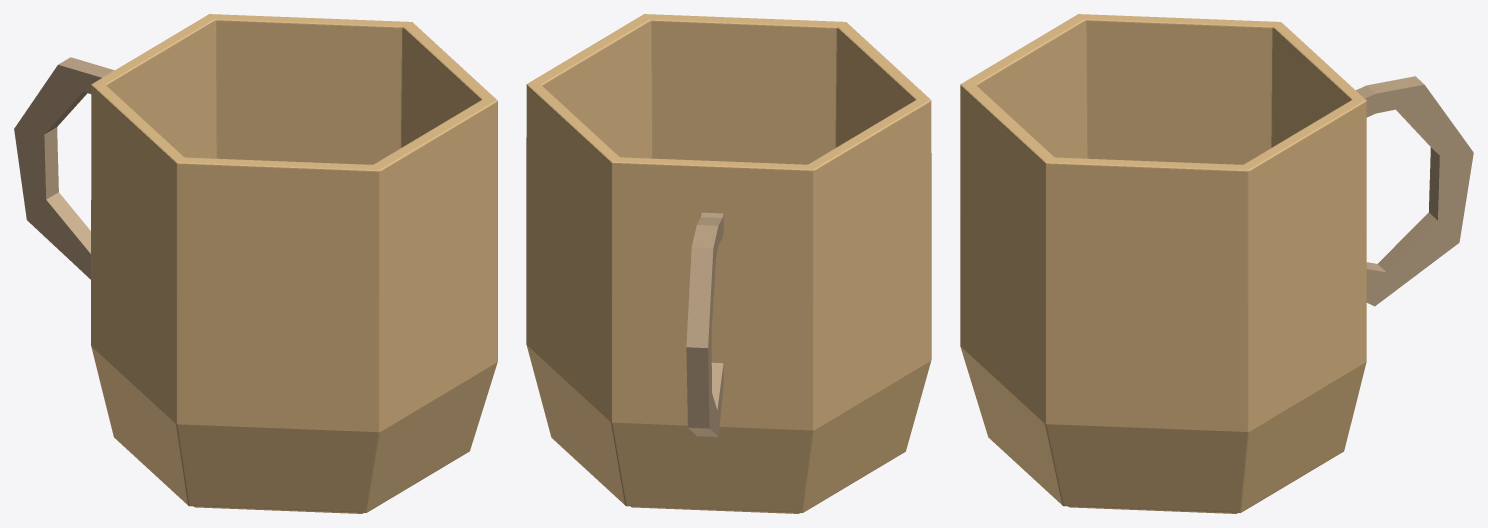
Rendered from Cup.fbx.
The picture shows the model from 3 angles, left to right: view 1: azimuth 30°, elevation 25°; view 2: azimuth 150°, elevation 25°; view 3: azimuth 270°, elevation 25°; orthographic projection.
Visible parts, largest first — view 1: Cup, cup.002; view 2: Cup, cup.002; view 3: Cup, cup.002.
Boxes of the visible parts, x1,y1,x2,y2 form: Cup: (91, 14, 497, 513); cup.002: (14, 57, 114, 279); Cup: (526, 14, 931, 513); cup.002: (686, 212, 723, 436); Cup: (960, 14, 1366, 513); cup.002: (1356, 76, 1473, 306).
Size of the model in its own units: 56.52 by 60.09 by 78.17.
